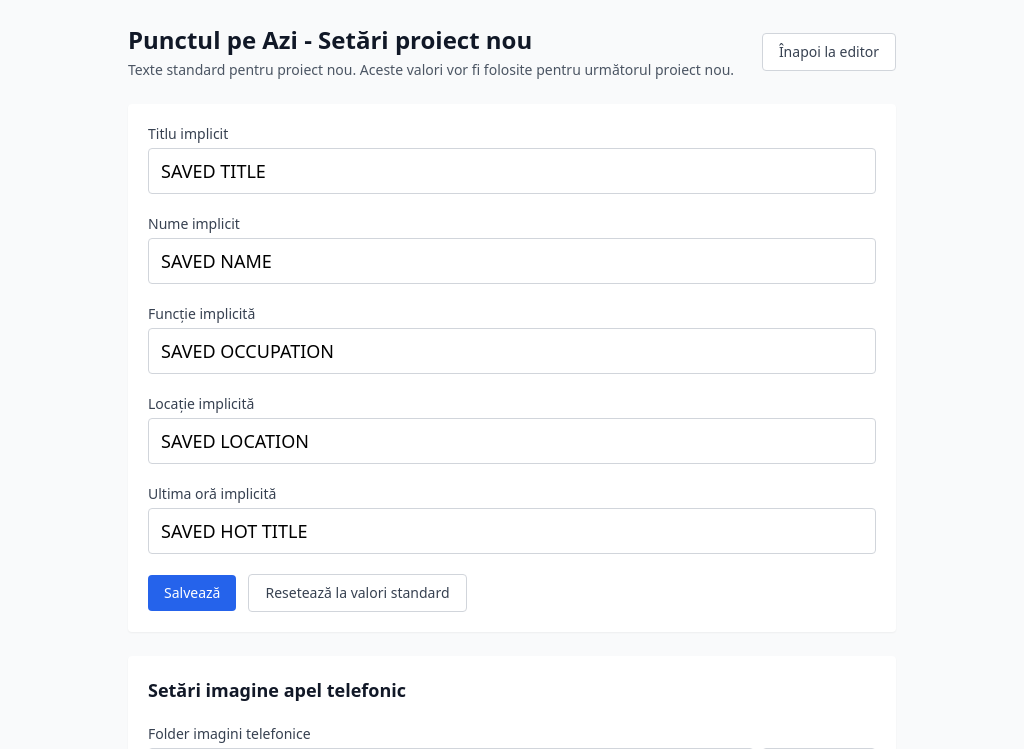
Test: DefaultProjectSettingsPage › resets the form to fallback values
The width and height of the screenshot is (1024, 749).
Check: the field labelled "Titlu implicit" holds "SAVED TITLE", box x1=148 y1=148 x2=876 y2=194
Click the button "Resetează la valori standard".
click(358, 593)  # box x1=248 y1=574 x2=467 y2=612
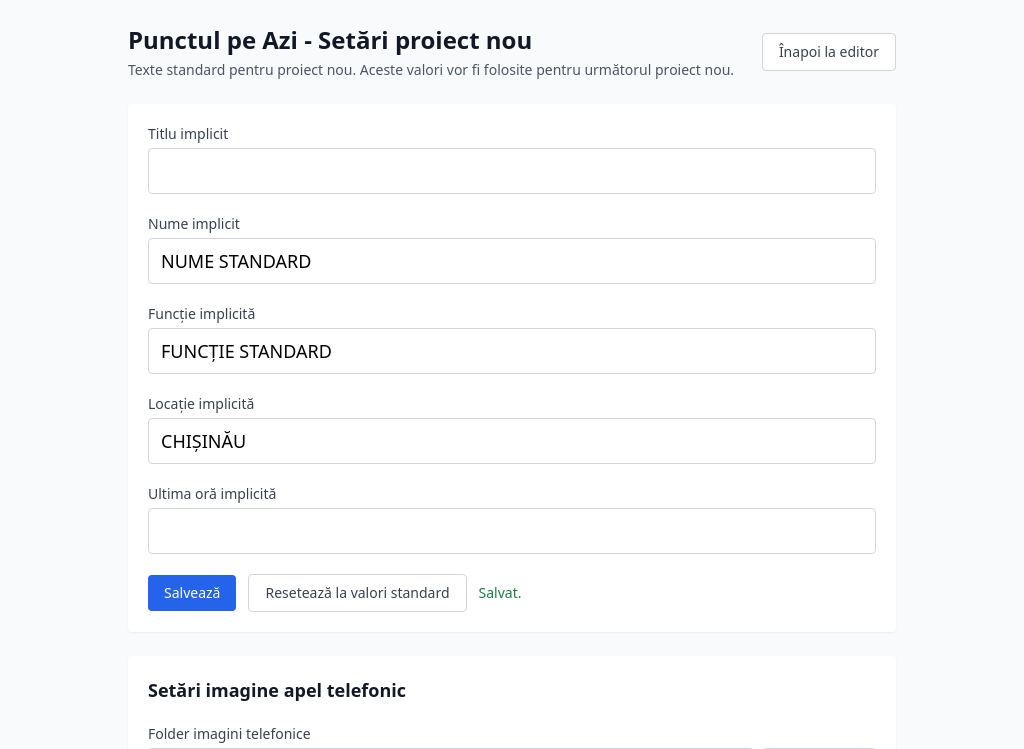
Check: the field labelled "Titlu implicit" is empty, box x1=148 y1=148 x2=876 y2=194
Check: the field labelled "Nume implicit" holds "NUME STANDARD", box x1=148 y1=238 x2=876 y2=284
Check: the field labelled "Funcție implicită" holds "FUNCȚIE STANDARD", box x1=148 y1=328 x2=876 y2=374
